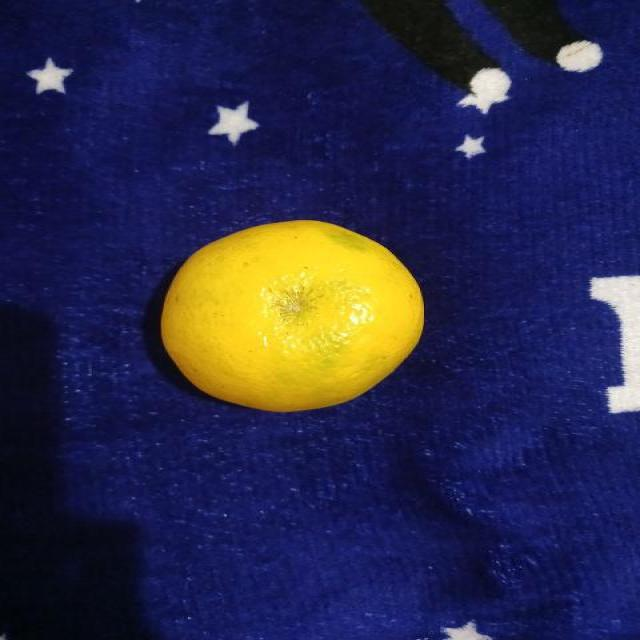greening: (152, 221, 430, 413)
